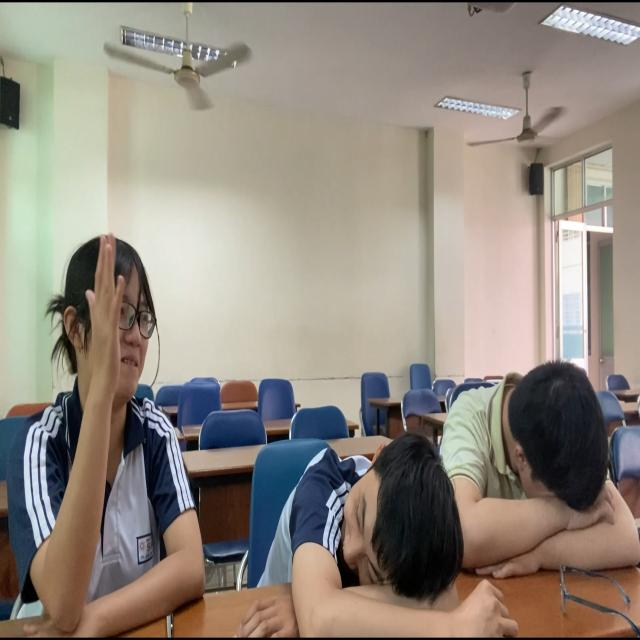raise_hand: (1, 231, 215, 640)
sleep: (261, 428, 469, 640), (441, 359, 640, 573)
